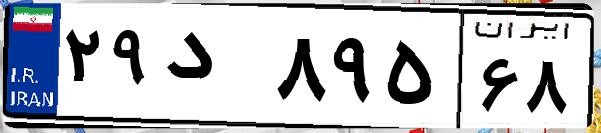2: (57, 26, 110, 100)
5: (385, 28, 445, 110)
6: (475, 38, 525, 113)
8: (270, 28, 330, 110), (525, 38, 570, 115)
9: (330, 28, 385, 110), (110, 28, 158, 98)
د: (158, 20, 270, 120)
